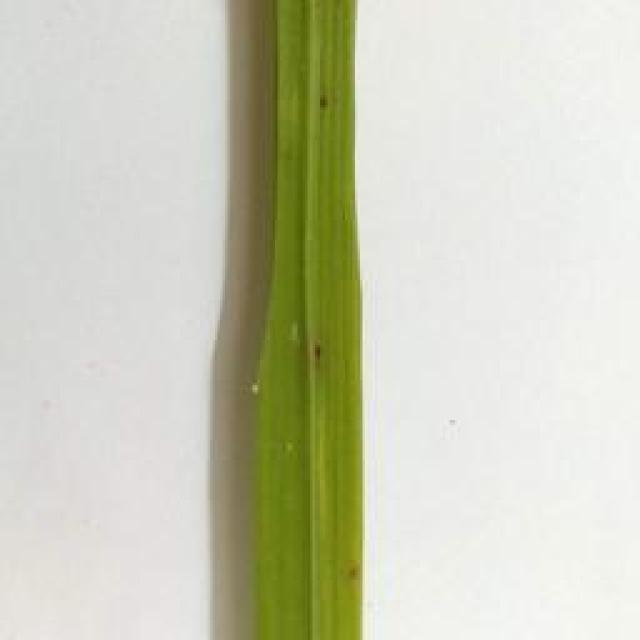Brown_Spot: (304, 82, 340, 130), (302, 324, 334, 373), (350, 555, 370, 589)
